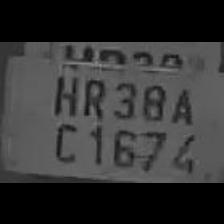1: (82, 116, 106, 164)
3: (108, 73, 138, 121)
4: (166, 124, 198, 172)
6: (107, 120, 136, 170)
7: (136, 124, 166, 170)
8: (136, 76, 166, 122)
A: (168, 80, 194, 128)
C: (48, 115, 80, 163)
H: (48, 66, 80, 118)
R: (80, 70, 106, 119)
